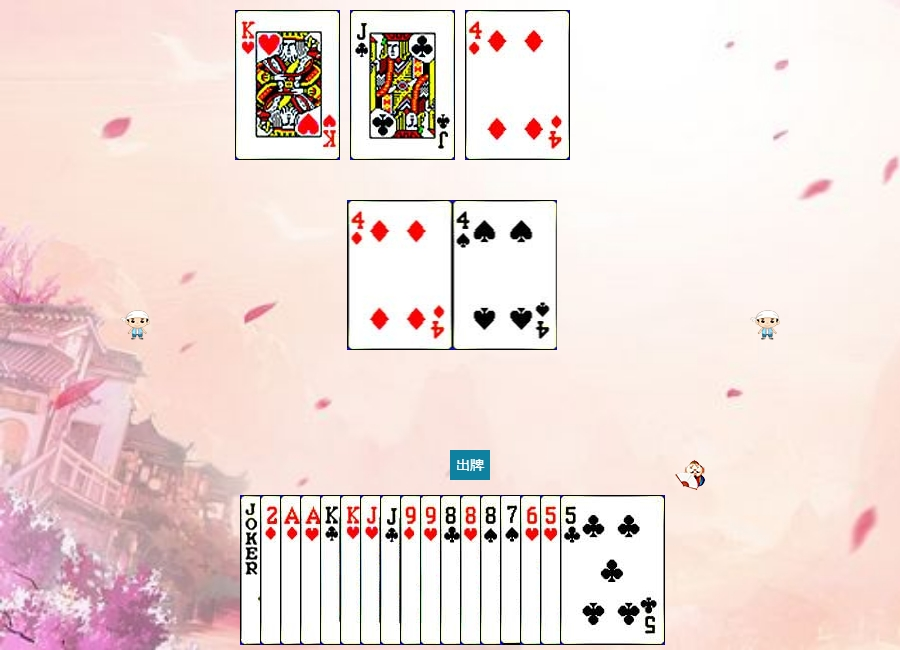11~2: (350, 10, 455, 160), (380, 495, 485, 645)
11~3: (360, 495, 465, 645)
13~2: (320, 495, 425, 645)
13~3: (235, 10, 340, 160), (340, 495, 445, 645)
14~1: (280, 495, 385, 645)
14~3: (300, 495, 405, 645)
15~1: (260, 495, 365, 645)
17~3: (240, 495, 345, 645)
4~1: (465, 10, 570, 160), (348, 200, 453, 350)
4~4: (453, 200, 558, 350)
5~2: (560, 495, 665, 645)
5~3: (540, 495, 645, 645)
6~3: (520, 495, 625, 645)
7~4: (500, 495, 605, 645)
8~2: (440, 495, 545, 645)
8~3: (460, 495, 565, 645)
8~4: (480, 495, 585, 645)
9~1: (400, 495, 505, 645)
9~3: (420, 495, 525, 645)
